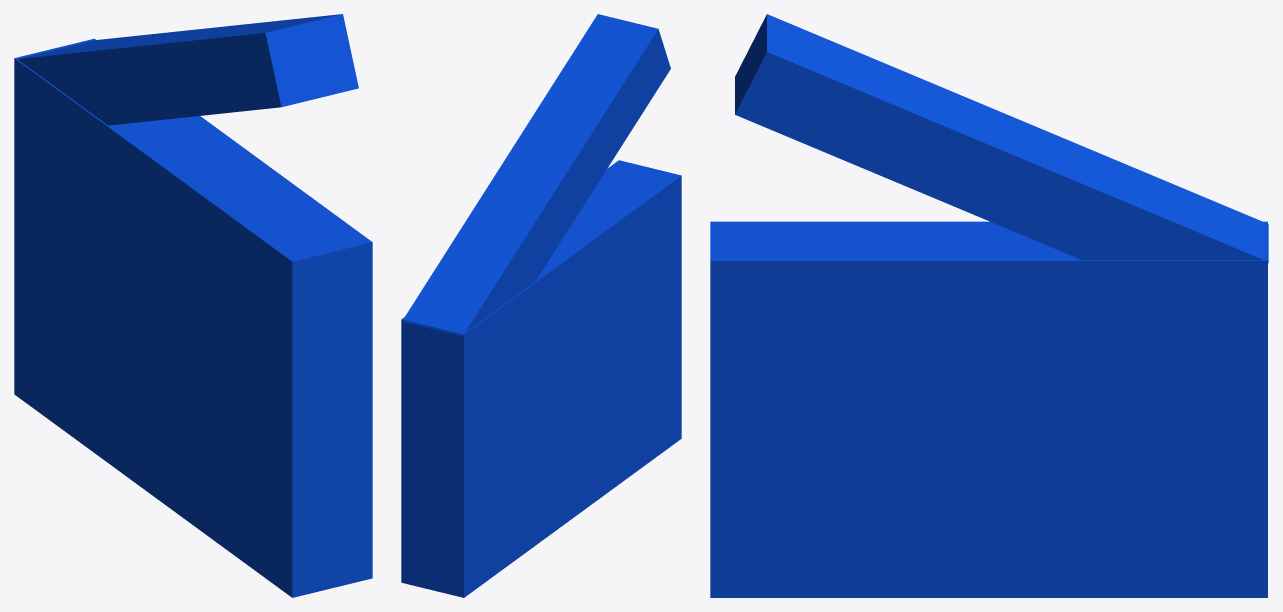
The model's file is LowPolyMaxAmmo.fbx.
The picture shows the model from 3 angles, left to right: view 1: azimuth 30°, elevation 25°; view 2: azimuth 150°, elevation 25°; view 3: azimuth 270°, elevation 25°; orthographic projection. The views are drawn at different scales.
Visible parts, largest first — view 1: Cube; view 2: Cube; view 3: Cube.
Boxes of the visible parts, left/top/right/bottom form: Cube: left=14, top=14, right=372, bottom=597; Cube: left=401, top=14, right=681, bottom=597; Cube: left=710, top=14, right=1268, bottom=597.
Size of the model in its own units: 50 by 324 by 300.
